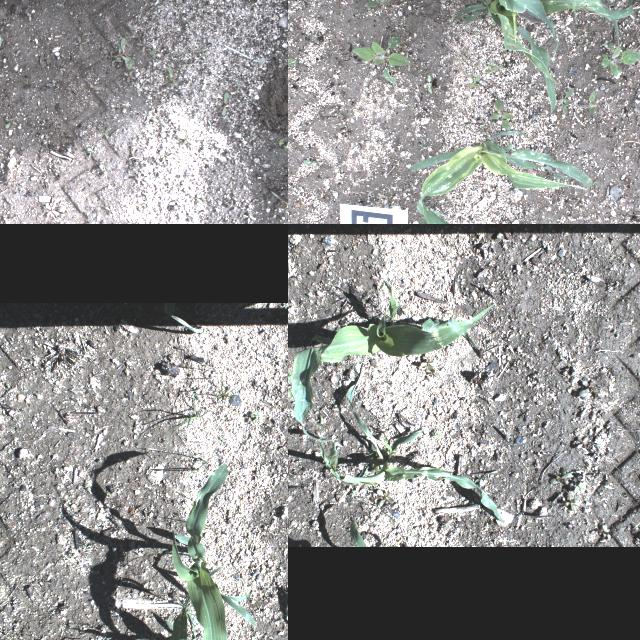crop: (290, 280, 498, 442), (318, 363, 506, 522), (443, 0, 633, 116), (408, 130, 591, 224), (170, 464, 256, 640), (451, 0, 576, 62), (165, 594, 195, 640), (349, 518, 369, 546)
weed: (352, 36, 411, 84), (164, 392, 198, 442), (600, 41, 640, 79), (100, 36, 134, 70), (489, 98, 513, 132), (170, 312, 202, 330), (211, 378, 233, 402), (576, 378, 600, 400), (186, 457, 212, 477), (556, 87, 574, 115), (470, 62, 508, 74), (578, 90, 596, 114), (561, 492, 581, 512), (420, 355, 436, 379), (548, 468, 572, 484), (376, 488, 394, 508), (196, 362, 220, 374), (176, 134, 197, 146), (150, 114, 168, 128), (363, 0, 398, 6), (601, 523, 611, 543), (136, 38, 150, 52), (72, 36, 86, 50), (220, 92, 228, 116), (571, 482, 587, 494), (167, 68, 177, 86), (288, 56, 297, 75), (242, 212, 256, 224), (188, 192, 202, 204), (96, 126, 110, 138), (44, 204, 58, 216), (424, 74, 432, 94), (302, 158, 318, 168), (4, 115, 16, 128), (469, 76, 481, 88), (249, 412, 263, 422), (87, 84, 103, 92), (277, 137, 288, 148), (244, 132, 256, 142), (486, 66, 498, 76), (104, 206, 115, 216), (197, 43, 206, 55), (124, 72, 134, 82), (98, 164, 106, 176), (196, 194, 204, 203), (459, 54, 466, 64), (86, 147, 96, 153), (477, 0, 489, 5), (83, 482, 89, 492), (162, 152, 168, 160), (148, 48, 156, 54), (168, 50, 176, 56), (230, 408, 238, 414), (563, 118, 569, 124), (427, 196, 433, 202), (34, 342, 40, 348), (4, 382, 10, 388), (105, 492, 111, 498), (280, 219, 288, 223), (20, 188, 26, 192), (591, 181, 597, 185), (312, 34, 316, 38), (104, 80, 106, 84)
